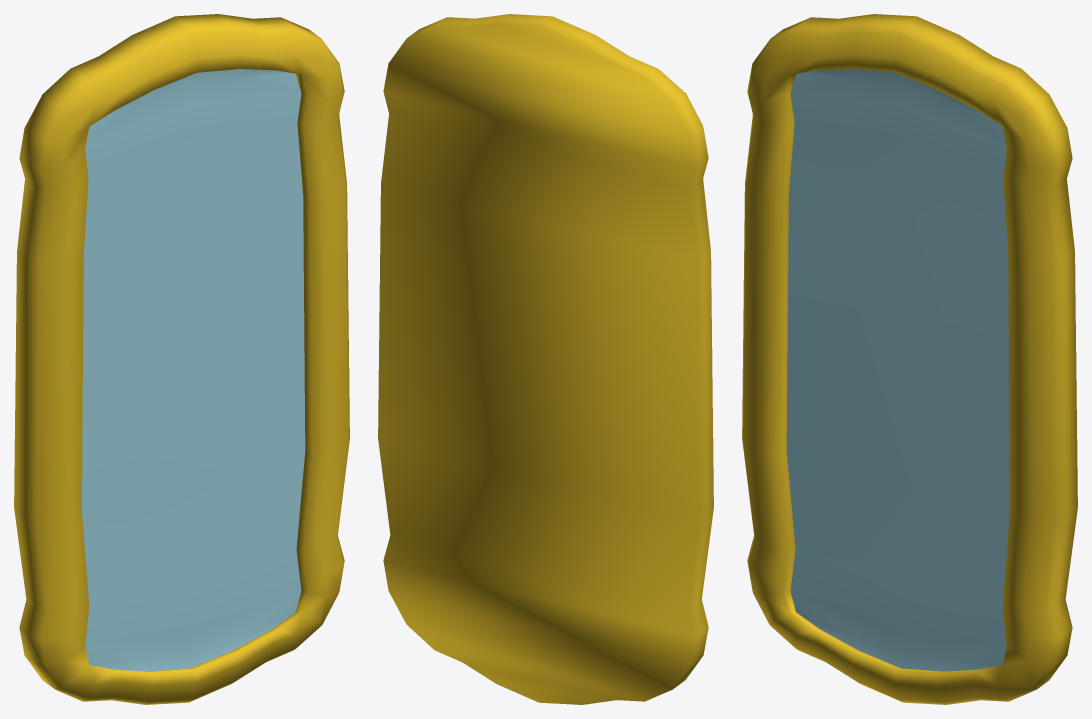
Rendered from prop_mirror_long.fbx.
3 views of the same model, side by side, from view 1: azimuth 30°, elevation 25°; view 2: azimuth 150°, elevation 25°; view 3: azimuth 330°, elevation 25° (orthographic).
Parts seen in each view (by area): view 1: Roundcube.001; view 2: Roundcube.001; view 3: Roundcube.001.
Boxes of the visible parts, left/top/right/bottom form: Roundcube.001: left=14, top=14, right=349, bottom=704; Roundcube.001: left=378, top=14, right=713, bottom=704; Roundcube.001: left=742, top=14, right=1077, bottom=704.
Bounding box in the file's own units: 73.12 × 146 × 8.78.
